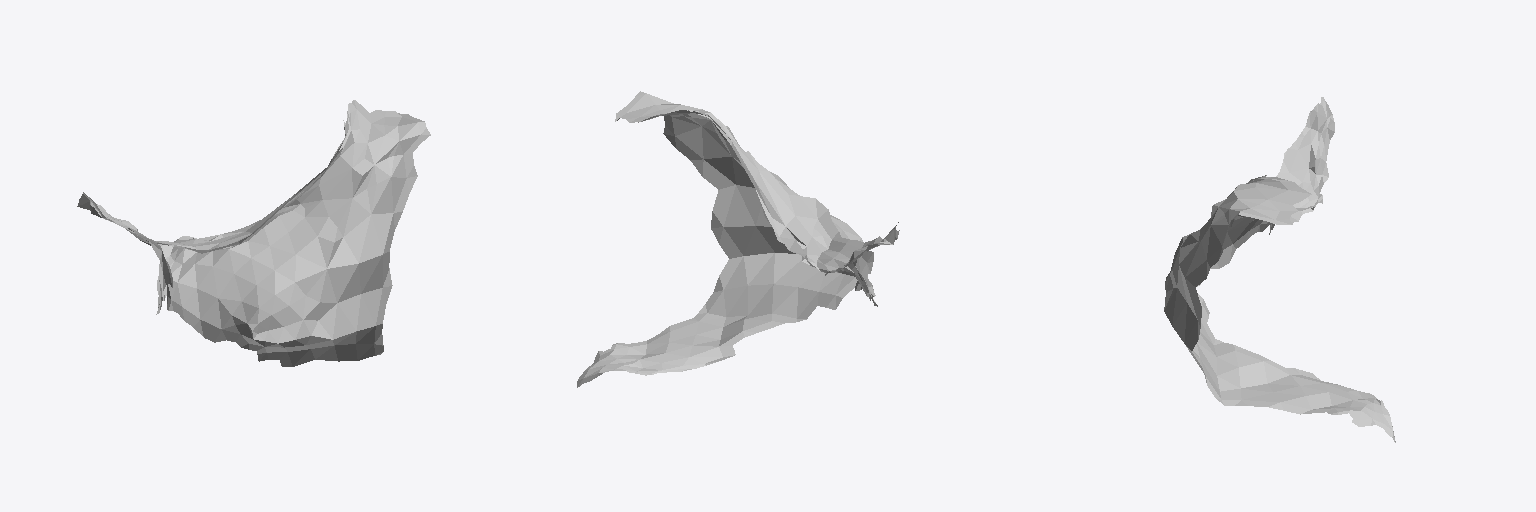
Rendered from R_collateral_transverse_sulcus_posterior.obj.
3 renders of one model, left to right at view 1: azimuth 30°, elevation 25°; view 2: azimuth 150°, elevation 25°; view 3: azimuth 270°, elevation 25°, orthographic.
Visible parts, largest first — view 1: R_collateral_transverse_sulcus_posterior_L_collateral_transverse; view 2: R_collateral_transverse_sulcus_posterior_L_collateral_transverse; view 3: R_collateral_transverse_sulcus_posterior_L_collateral_transverse.
Part boxes in pixels (bbox=[...]): R_collateral_transverse_sulcus_posterior_L_collateral_transverse: bbox=[77, 100, 430, 366]; R_collateral_transverse_sulcus_posterior_L_collateral_transverse: bbox=[577, 91, 899, 387]; R_collateral_transverse_sulcus_posterior_L_collateral_transverse: bbox=[1164, 97, 1395, 442].
Size of the model in its own units: 57.35 by 44.14 by 37.8.